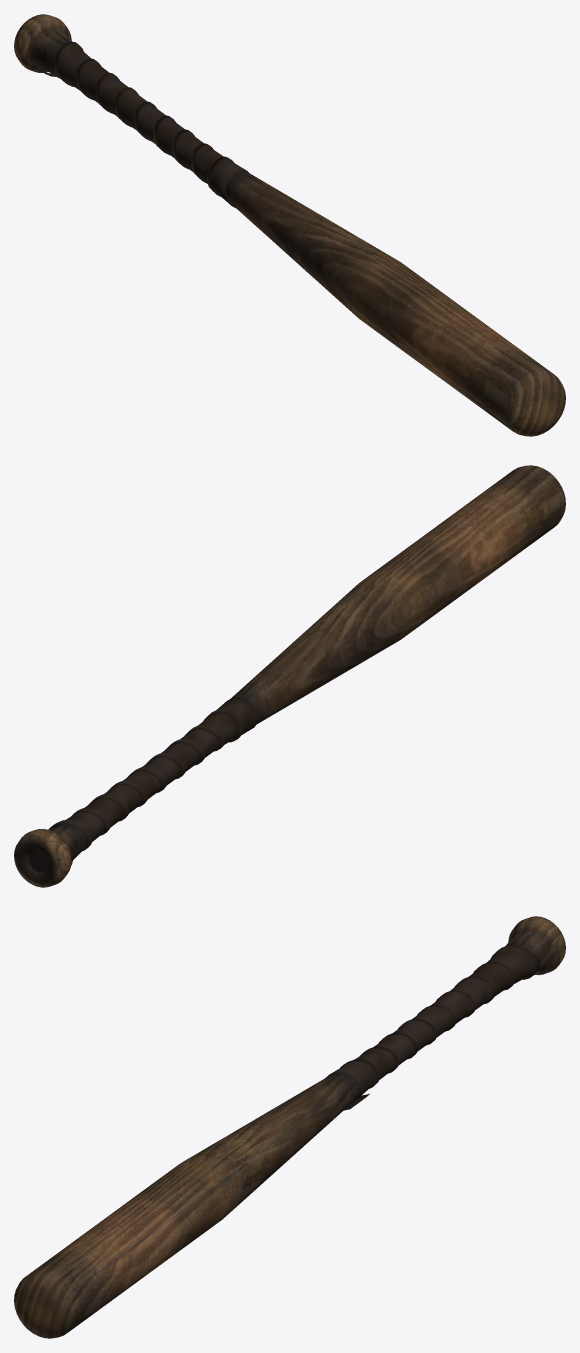
The model's file is taco.glb.
3 views of the same model, one above another, from view 1: azimuth 30°, elevation 25°; view 2: azimuth 150°, elevation 25°; view 3: azimuth 330°, elevation 25° (orthographic).
Parts seen in each view (by area): view 1: Malha; view 2: Malha; view 3: Malha.
Boxes of the visible parts, x1=… form: Malha: x1=14, y1=14, x2=565, y2=436; Malha: x1=14, y1=465, x2=565, y2=887; Malha: x1=14, y1=916, x2=565, y2=1338.
Bounding box in the file's own units: 0.0591 × 0.0591 × 0.85.
1 material, 1 textured.
